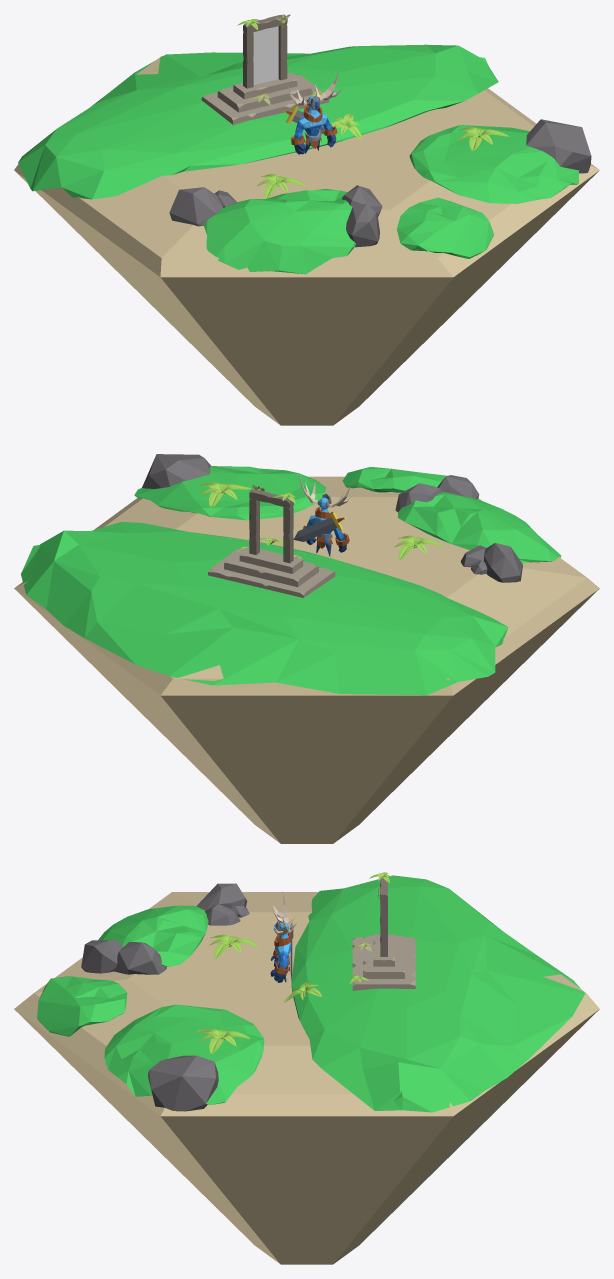
The model's file is islandend.glb.
3 renders of one model, top to bottom at view 1: azimuth 30°, elevation 25°; view 2: azimuth 150°, elevation 25°; view 3: azimuth 270°, elevation 25°, orthographic.
Visible parts, largest first — view 1: Circle, Sphere, Sphere.001, Sphere.002, Sphere.003, Icosphere.005, Icosphere.002, Cube.001, portal, Cube, Icosphere, Circle.010 (+4 smaller); view 2: Circle, Sphere, Sphere.001, Sphere.002, Sphere.003, Icosphere.005, Cube.001, Cube, Icosphere.002, Cube.002, Icosphere.001, Icosphere (+5 smaller); view 3: Circle, Sphere, Sphere.002, Sphere.003, Sphere.001, Icosphere.005, Cube.001, Icosphere.001, Icosphere, Cube, Icosphere.002, Icosphere.003 (+3 smaller).
Boxes of the visible parts, x1=… form: Circle: x1=14, y1=56, x2=599, y2=425; Sphere: x1=18, y1=44, x2=498, y2=199; Sphere.001: x1=203, y1=189, x2=355, y2=274; Sphere.002: x1=409, y1=125, x2=578, y2=203; Sphere.003: x1=397, y1=197, x2=493, y2=258; Icosphere.005: x1=526, y1=119, x2=591, y2=173; Icosphere.002: x1=169, y1=187, x2=222, y2=226; Cube.001: x1=201, y1=74, x2=328, y2=124; portal: x1=253, y1=26, x2=278, y2=84; Cube: x1=217, y1=73, x2=312, y2=112; Icosphere: x1=346, y1=203, x2=379, y2=247; Circle.010: x1=294, y1=96, x2=336, y2=154; Circle: x1=14, y1=476, x2=599, y2=843; Sphere: x1=21, y1=522, x2=508, y2=695; Sphere.001: x1=398, y1=492, x2=561, y2=563; Sphere.002: x1=134, y1=466, x2=326, y2=520; Sphere.003: x1=342, y1=467, x2=447, y2=492; Icosphere.005: x1=142, y1=454, x2=210, y2=488; Cube.001: x1=208, y1=549, x2=335, y2=597; Cube: x1=224, y1=547, x2=318, y2=587; Icosphere.002: x1=484, y1=543, x2=522, y2=582; Cube.002: x1=239, y1=548, x2=303, y2=573; Icosphere.001: x1=395, y1=483, x2=441, y2=511; Icosphere: x1=437, y1=475, x2=479, y2=498; Circle: x1=14, y1=892, x2=599, y2=1264; Sphere: x1=291, y1=875, x2=584, y2=1112; Sphere.002: x1=104, y1=1004, x2=264, y2=1104; Sphere.003: x1=37, y1=976, x2=127, y2=1036; Sphere.001: x1=98, y1=905, x2=208, y2=966; Icosphere.005: x1=148, y1=1055, x2=218, y2=1111; Cube.001: x1=352, y1=937, x2=415, y2=990; Icosphere.001: x1=114, y1=942, x2=166, y2=974; Icosphere: x1=81, y1=940, x2=122, y2=973; Cube: x1=363, y1=935, x2=404, y2=978; Icosphere.002: x1=197, y1=883, x2=247, y2=910; Icosphere.003: x1=205, y1=904, x2=240, y2=925.
Size of the model in its own units: 21.33 by 16.02 by 23.45.
14 materials, 1 textured.
